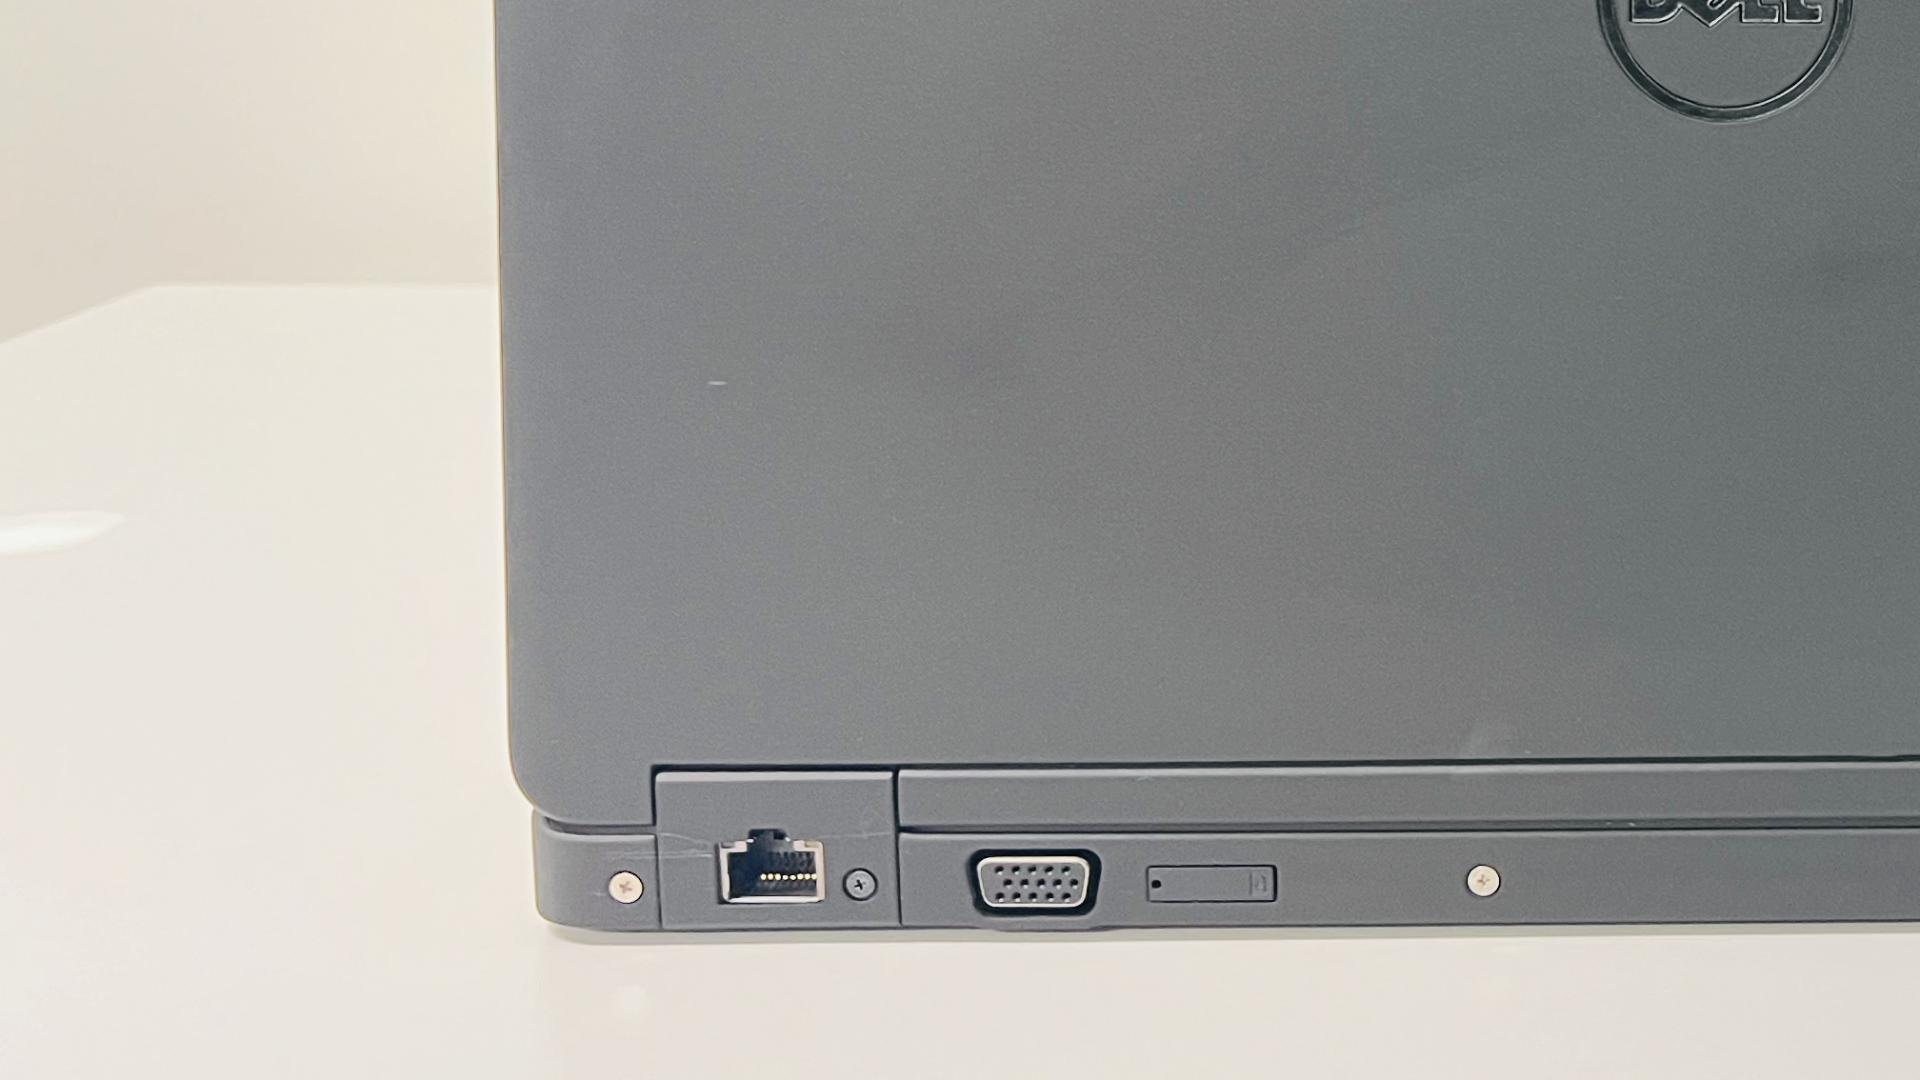scratches: (615, 832, 717, 860), (811, 828, 891, 839), (711, 378, 727, 385), (592, 893, 608, 897)
